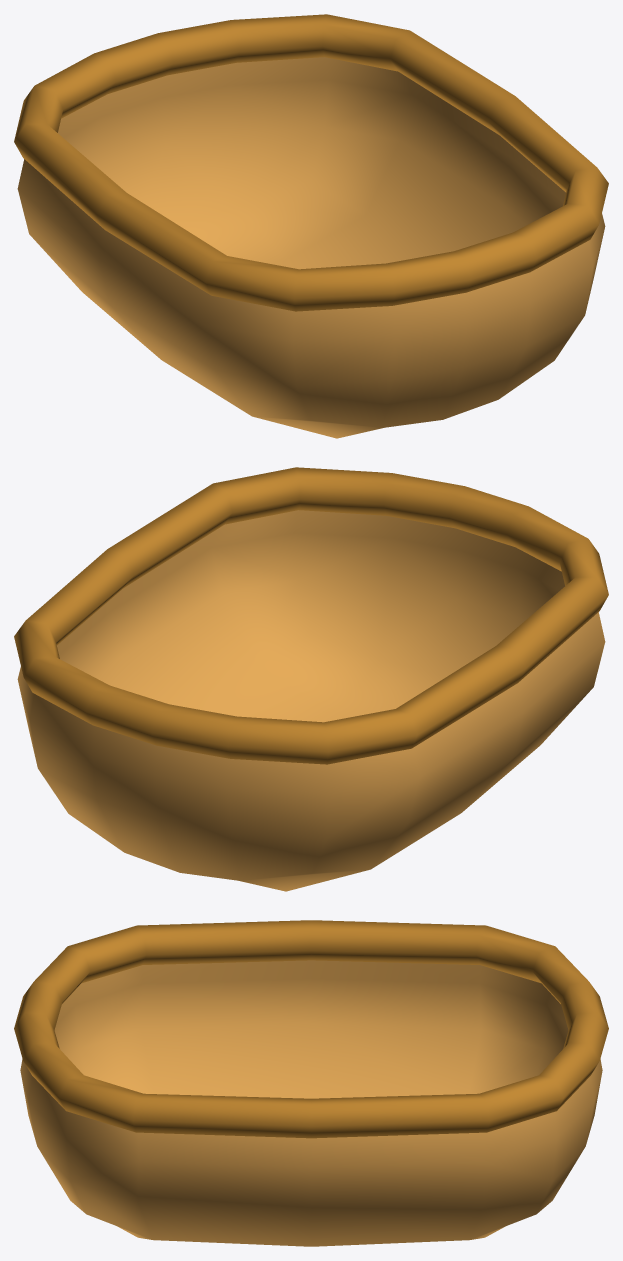
File: P_basket_02_LD.fbx
3 renders of one model, top to bottom at view 1: azimuth 30°, elevation 25°; view 2: azimuth 150°, elevation 25°; view 3: azimuth 270°, elevation 25°, orthographic. The views are drawn at different scales.
Parts seen in each view (by area): view 1: P_basket_02; view 2: P_basket_02; view 3: P_basket_02.
Part boxes in pixels (x1,y1,x2,y2): P_basket_02: (14, 14, 608, 438); P_basket_02: (14, 467, 608, 891); P_basket_02: (14, 920, 608, 1246).
Size of the model in its own units: 75.65 by 35.32 by 97.34.
